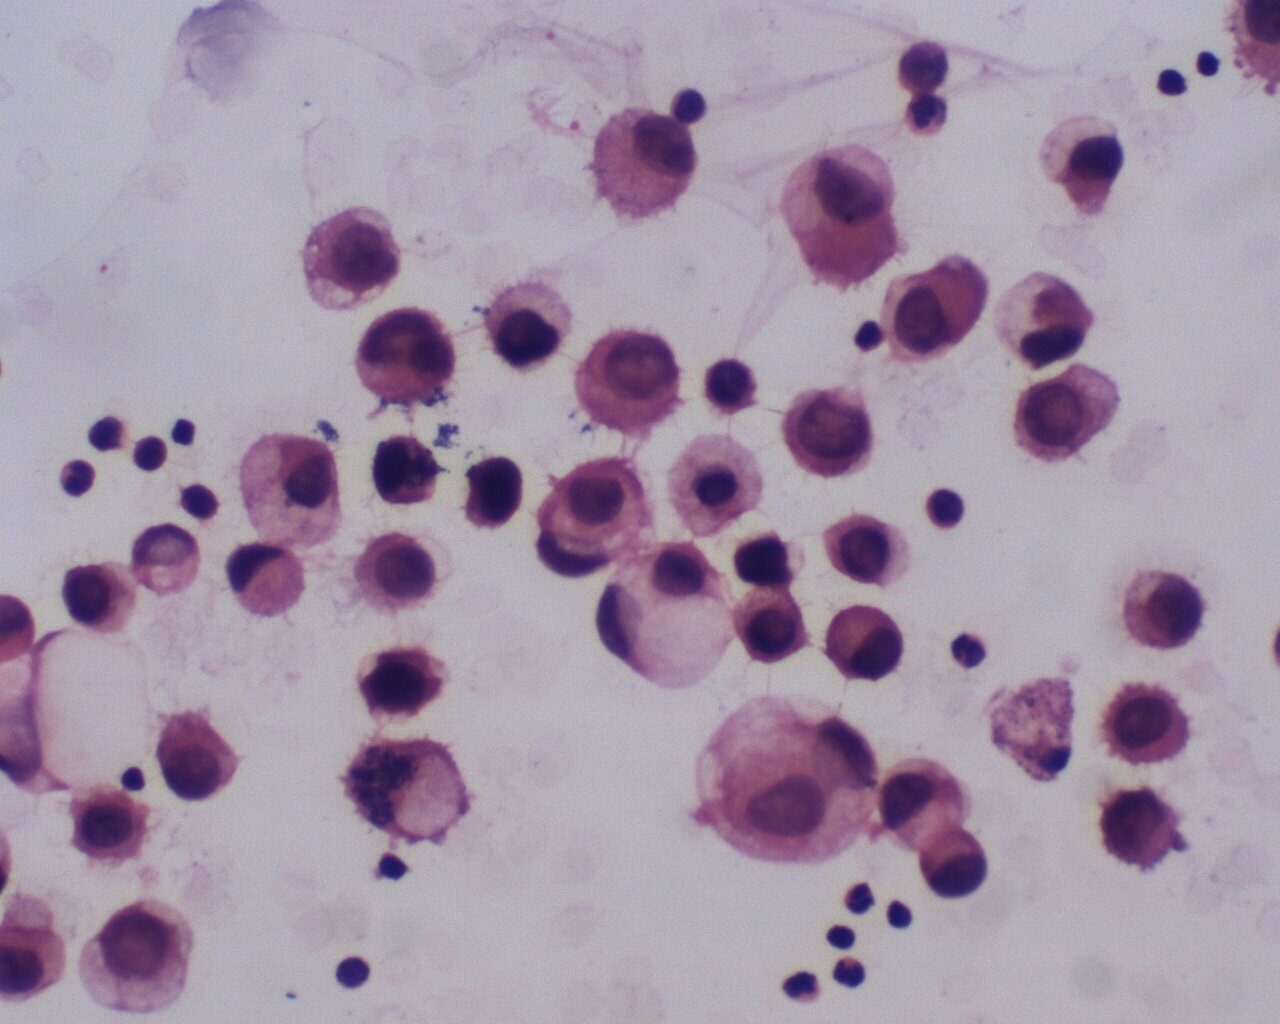ab: (341, 734, 475, 850), (80, 887, 197, 1015), (878, 251, 993, 366), (290, 204, 408, 317), (1011, 359, 1128, 469), (572, 327, 684, 434), (353, 306, 460, 405), (478, 274, 577, 377), (1093, 779, 1193, 878), (779, 378, 877, 480), (153, 712, 246, 811), (351, 531, 448, 616), (1122, 571, 1212, 662), (1102, 682, 1196, 769), (817, 509, 910, 594), (353, 643, 453, 718), (734, 586, 810, 672), (370, 430, 448, 509), (453, 450, 529, 532)
histo: (697, 694, 875, 877), (590, 544, 739, 697), (668, 433, 766, 540)
lymph: (920, 481, 971, 531), (333, 950, 374, 996), (885, 897, 921, 930), (1190, 45, 1224, 80)
meso: (578, 107, 693, 222), (822, 599, 908, 688), (52, 558, 139, 639), (224, 542, 304, 623)
neutro: (59, 456, 98, 502), (831, 956, 868, 990)
